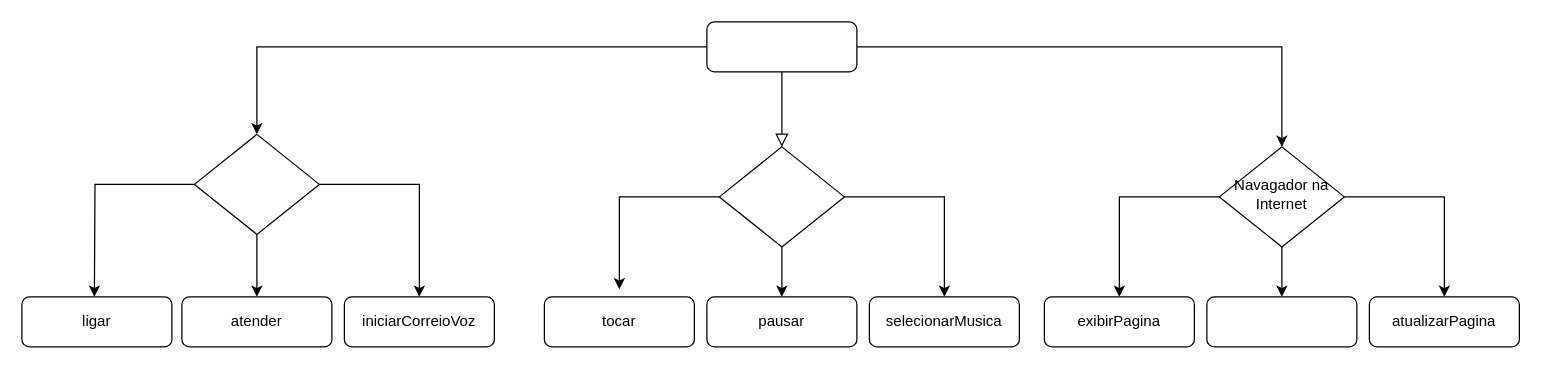
Some shapes in this 1541 by 379 pixel diagram are drawn without their labels. The box of each missing label's shape, as (x1, y1, x2, y2) in pixels:
adicionarNovaAba: (1206, 296, 1357, 347)
Aparelho Telefônico: (193, 133, 319, 234)
iPhone: (706, 21, 857, 72)
Reprodutor Musical: (718, 146, 844, 247)
